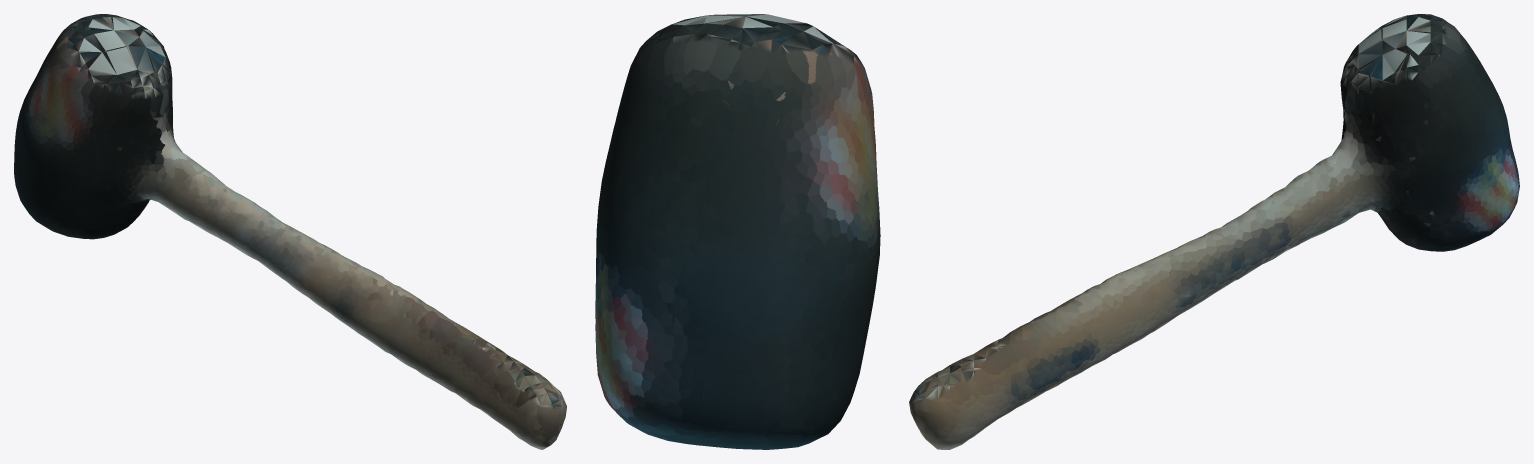
The model's file is doublehammer_new.obj.
3 views of the same model, side by side, from view 1: azimuth 30°, elevation 25°; view 2: azimuth 150°, elevation 25°; view 3: azimuth 270°, elevation 25° (orthographic). The views are drawn at different scales.
Size of the model in its own units: 0.1778 by 0.175 by 0.3035.
1 material, 1 textured.
